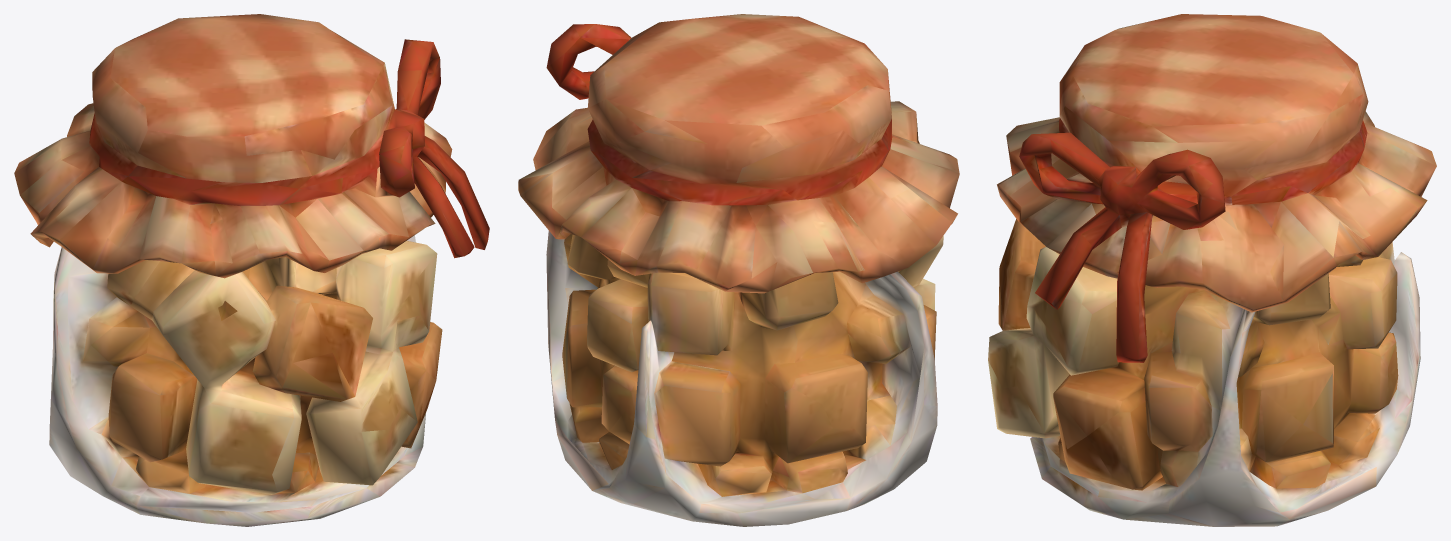
3 views of the same model, side by side, from view 1: azimuth 30°, elevation 25°; view 2: azimuth 150°, elevation 25°; view 3: azimuth 270°, elevation 25° (orthographic).
Visible parts, largest first — view 1: sugar-jar; view 2: sugar-jar; view 3: sugar-jar.
Part boxes in pixels (box(x1,y1,x2,y2)): sugar-jar: box(14, 14, 489, 526); sugar-jar: box(518, 14, 959, 526); sugar-jar: box(988, 14, 1436, 526).
Bounding box in the file's own units: 0.2797 × 0.2499 × 0.2577.
1 material, 1 textured.
